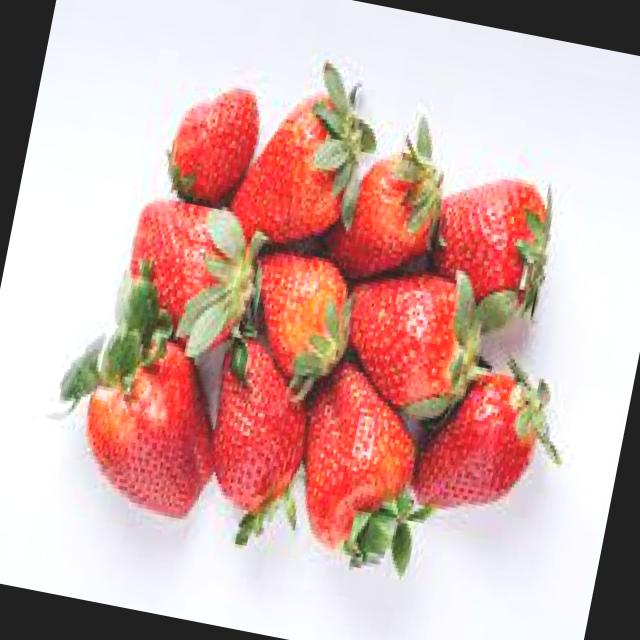strawberry: (44, 317, 233, 523), (188, 328, 336, 554), (400, 338, 564, 536), (226, 54, 370, 250), (329, 266, 496, 426), (108, 190, 264, 354), (424, 164, 560, 301), (336, 117, 452, 276), (157, 64, 266, 200), (245, 247, 354, 371)
